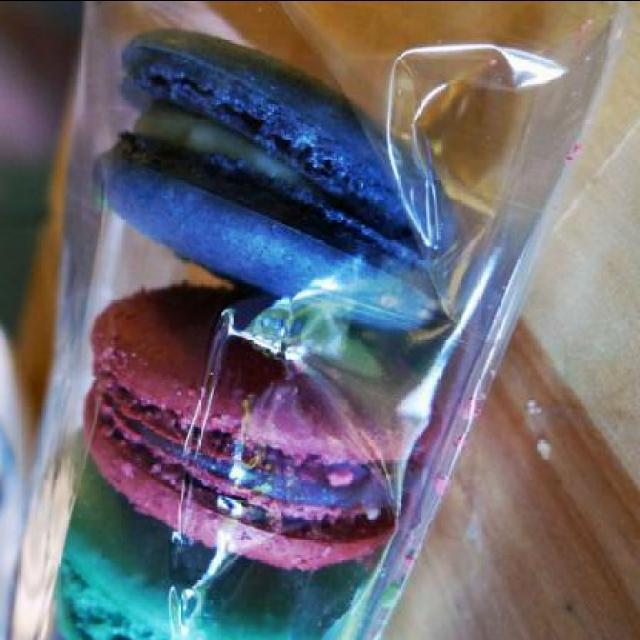Macaron: (42, 21, 478, 639)
